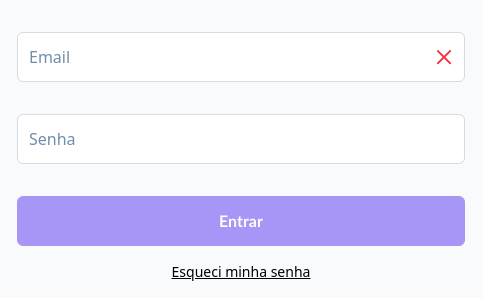
Login Component › Loading State › shows loading state during login
Type "john@example.com" into the field labelled "Email" at (241, 57), box [17,32,465,82]
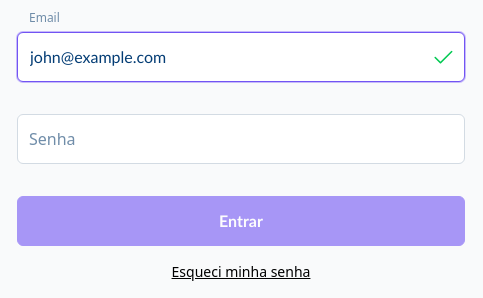
Type "password123" into the password field labelled "Senha" at (241, 139), box [17,114,465,164]
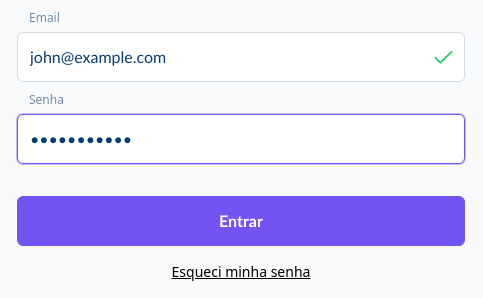
Click the button "Entrar" at (241, 221), box [17,196,465,246]
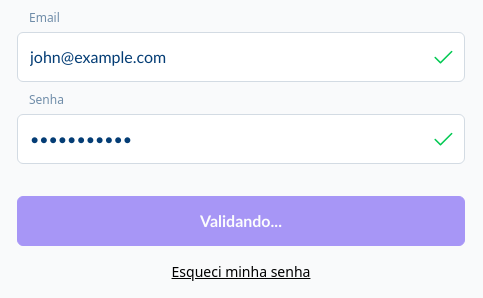
Result: the button "Validando..." is shown at [200,211,282,230]
Result: the button named "Entrar" is disabled at [17,196,465,246]
